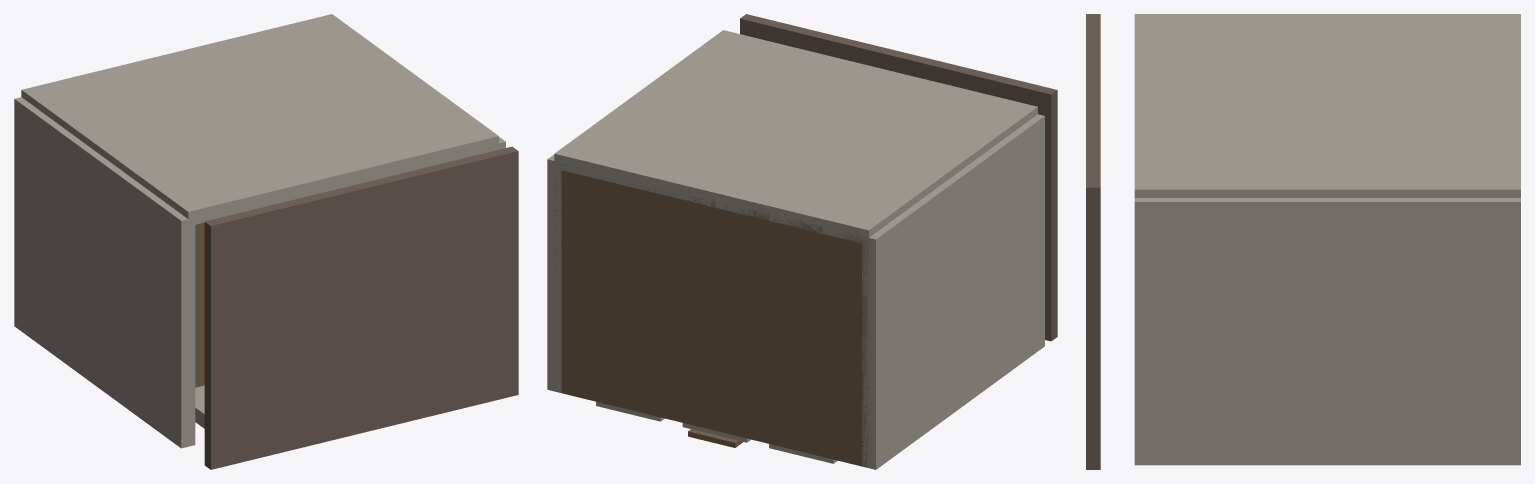
The model's file is wwii_townhouse.glb.
3 renders of one model, left to right at view 1: azimuth 30°, elevation 25°; view 2: azimuth 150°, elevation 25°; view 3: azimuth 270°, elevation 25°, orthographic. The views are drawn at different scales.
Parts seen in each view (by area): view 1: RearWall, RoofA, LeftWall, RoofB, Floor2; view 2: Floor0, RearWall, LeftWall, RoofA, RightWall, RoofB; view 3: RightWall, RearWall, RoofB, RoofA.
Boxes of the visible parts, left/top/right/bottom form: RearWall: left=21, top=14, right=498, bottom=226; RoofA: left=204, top=180, right=381, bottom=469; LeftWall: left=14, top=97, right=195, bottom=448; RoofB: left=345, top=146, right=518, bottom=436; Floor2: left=195, top=222, right=204, bottom=387; Floor0: left=554, top=163, right=868, bottom=467; RearWall: left=554, top=30, right=1037, bottom=244; LeftWall: left=862, top=114, right=1044, bottom=469; RoofA: left=878, top=48, right=1057, bottom=341; RightWall: left=547, top=154, right=561, bottom=392; RoofB: left=740, top=14, right=917, bottom=67; RightWall: left=1134, top=198, right=1520, bottom=465; RearWall: left=1134, top=14, right=1520, bottom=197; RoofB: left=1086, top=91, right=1100, bottom=469; RoofA: left=1086, top=14, right=1100, bottom=110.
Size of the model in its own units: 10.45 by 7.63 by 10.48.
